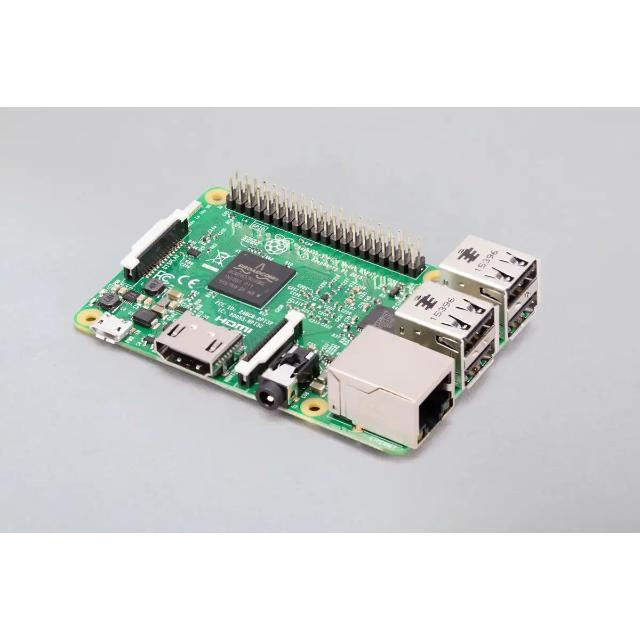Raspberry-Pi-3-B: (76, 179, 539, 455)
